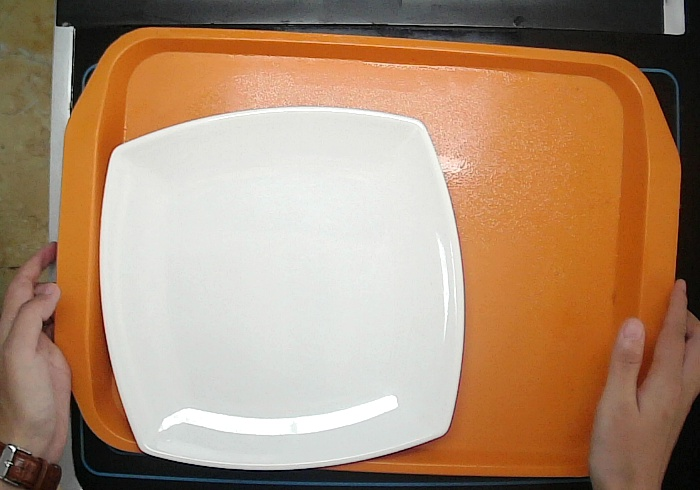ZNLD-Bai_Fang_Pan: (95, 103, 470, 473)
